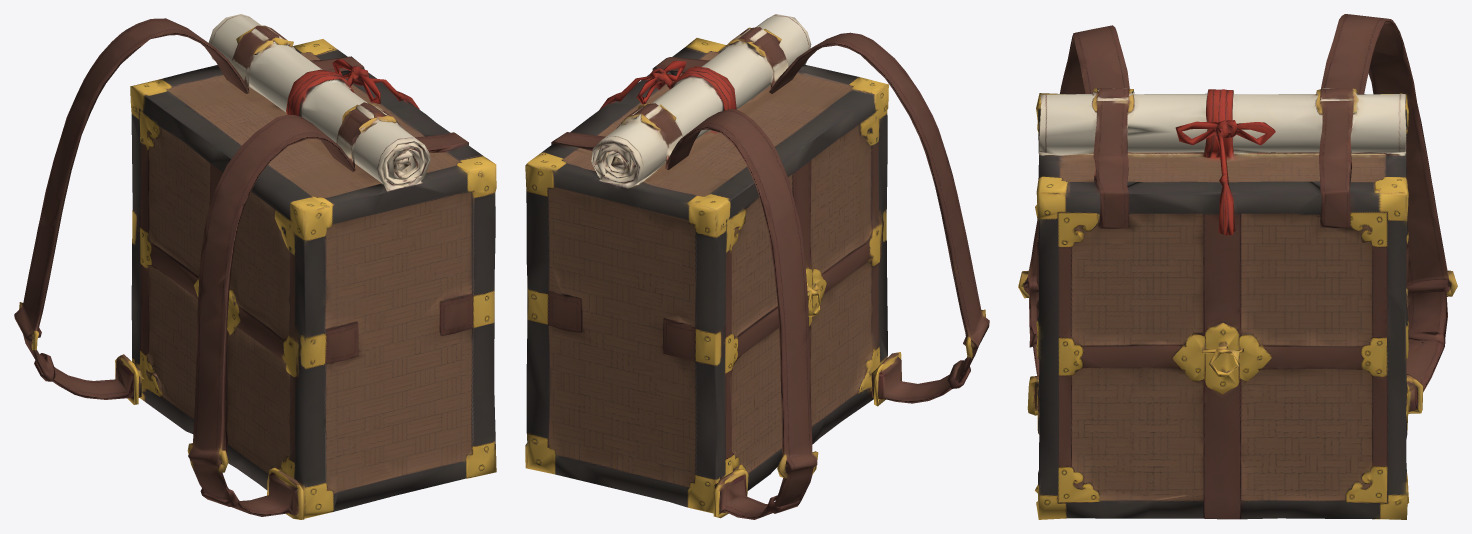
Rendered from book_chest.glb.
3 renders of one model, left to right at view 1: azimuth 30°, elevation 25°; view 2: azimuth 150°, elevation 25°; view 3: azimuth 270°, elevation 25°, orthographic. The views are drawn at different scales.
Parts seen in each view (by area): view 1: tripo_node_fb7367a2-db74-4cb0-aa49-e64be9084813; view 2: tripo_node_fb7367a2-db74-4cb0-aa49-e64be9084813; view 3: tripo_node_fb7367a2-db74-4cb0-aa49-e64be9084813.
Part boxes in pixels (bbox=[...]): tripo_node_fb7367a2-db74-4cb0-aa49-e64be9084813: bbox=[14, 14, 496, 519]; tripo_node_fb7367a2-db74-4cb0-aa49-e64be9084813: bbox=[525, 14, 989, 519]; tripo_node_fb7367a2-db74-4cb0-aa49-e64be9084813: bbox=[1018, 14, 1457, 519].
Bounding box in the file's own units: 0.8468 × 1 × 0.9786.
Materials: 1 (1 with a texture image).
